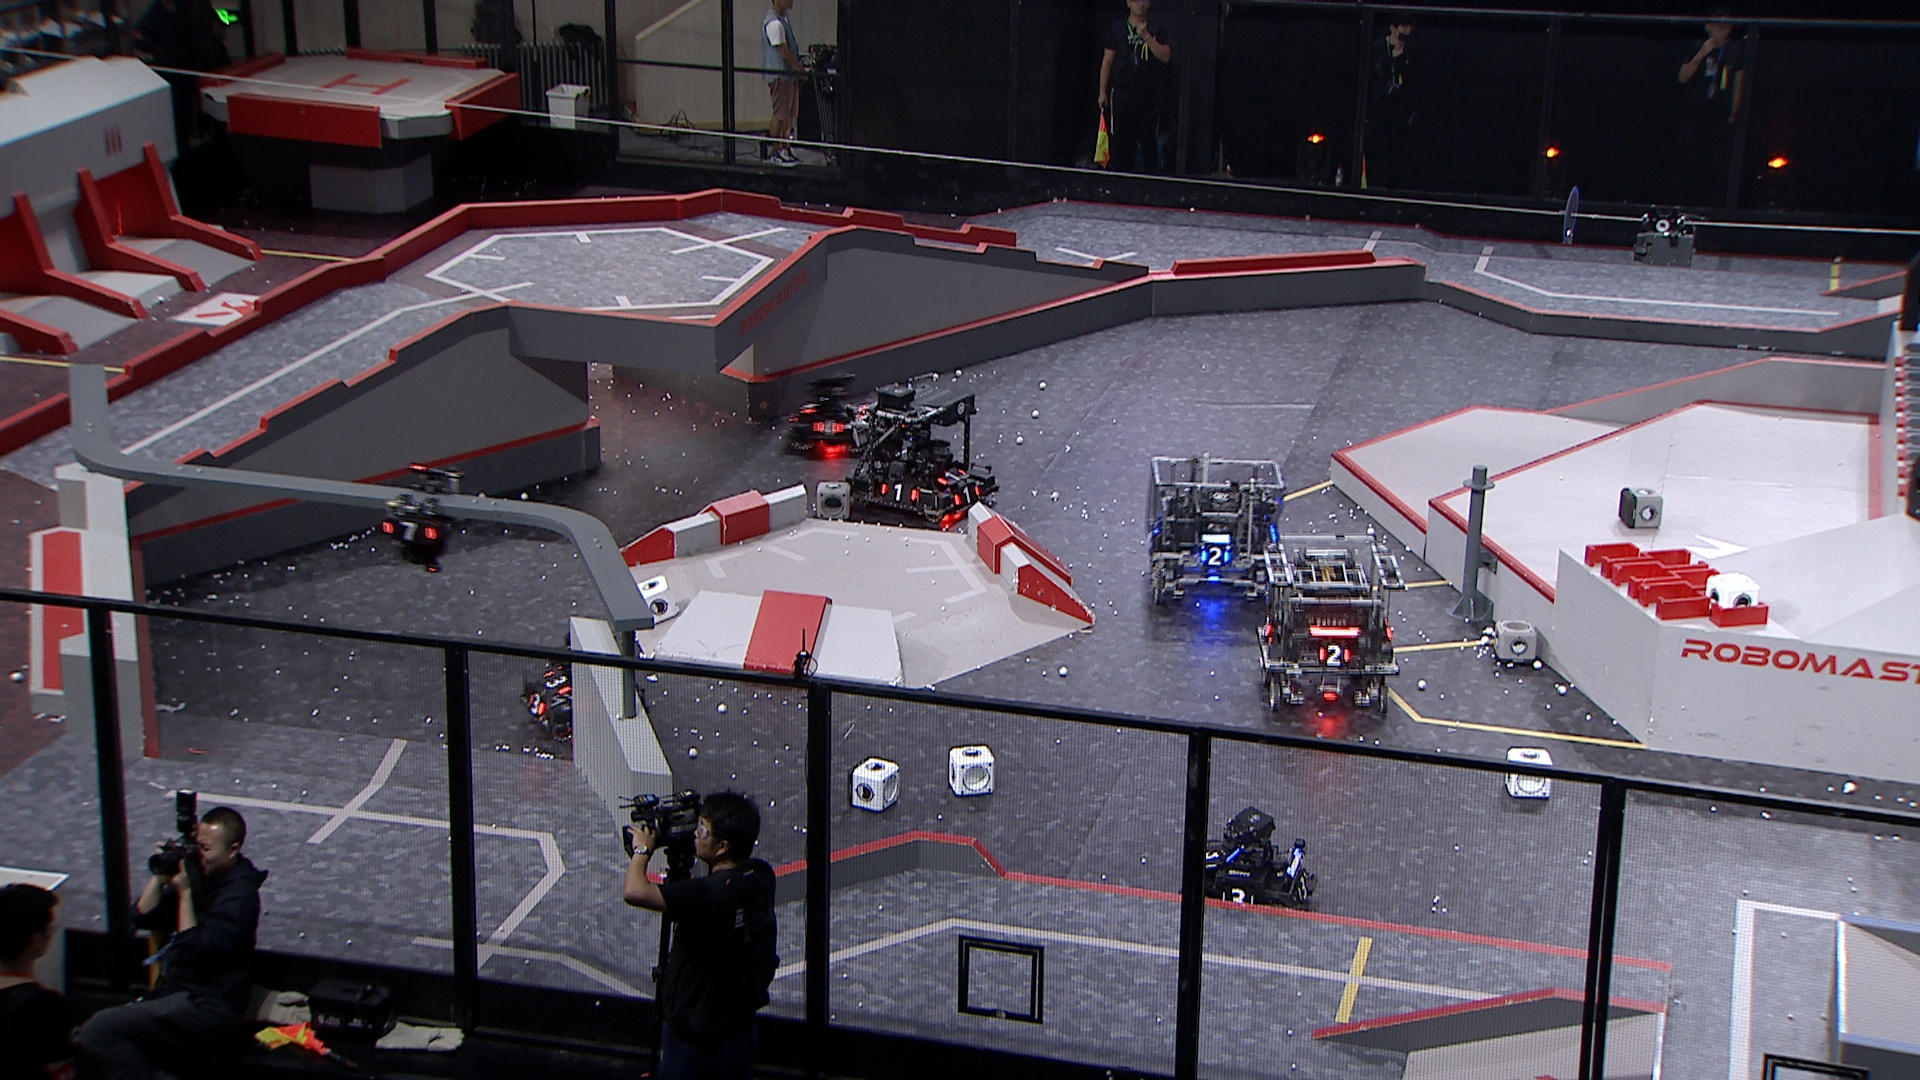armor: (380, 522, 436, 543), (878, 481, 920, 504), (1316, 642, 1353, 666), (542, 670, 572, 698), (1200, 545, 1230, 568), (1220, 887, 1257, 906), (953, 487, 982, 508), (814, 419, 845, 438), (936, 469, 967, 488), (527, 694, 547, 717), (1205, 847, 1225, 870), (1295, 873, 1309, 905), (1258, 615, 1276, 638), (798, 400, 820, 417)
car: (1254, 531, 1403, 723), (1145, 455, 1290, 615), (843, 384, 1001, 527), (1182, 804, 1321, 931), (518, 622, 650, 741), (785, 371, 880, 460)
watcher: (380, 465, 462, 571)
